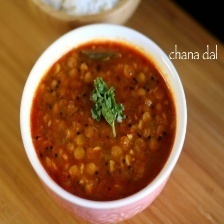dal: (29, 40, 178, 204)
